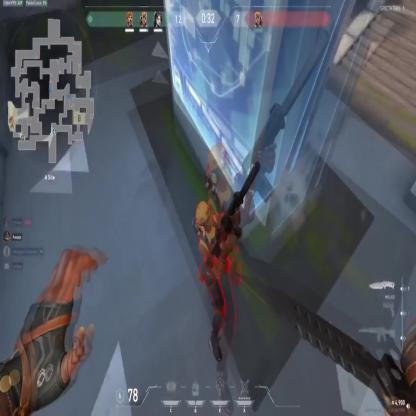enemy: (192, 196, 242, 354)
enemy_head: (196, 200, 212, 230)
